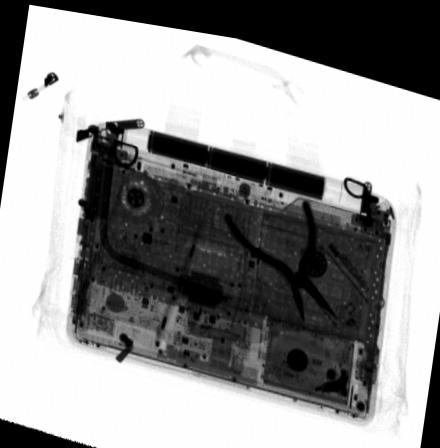Pliers: (224, 189, 339, 313)
